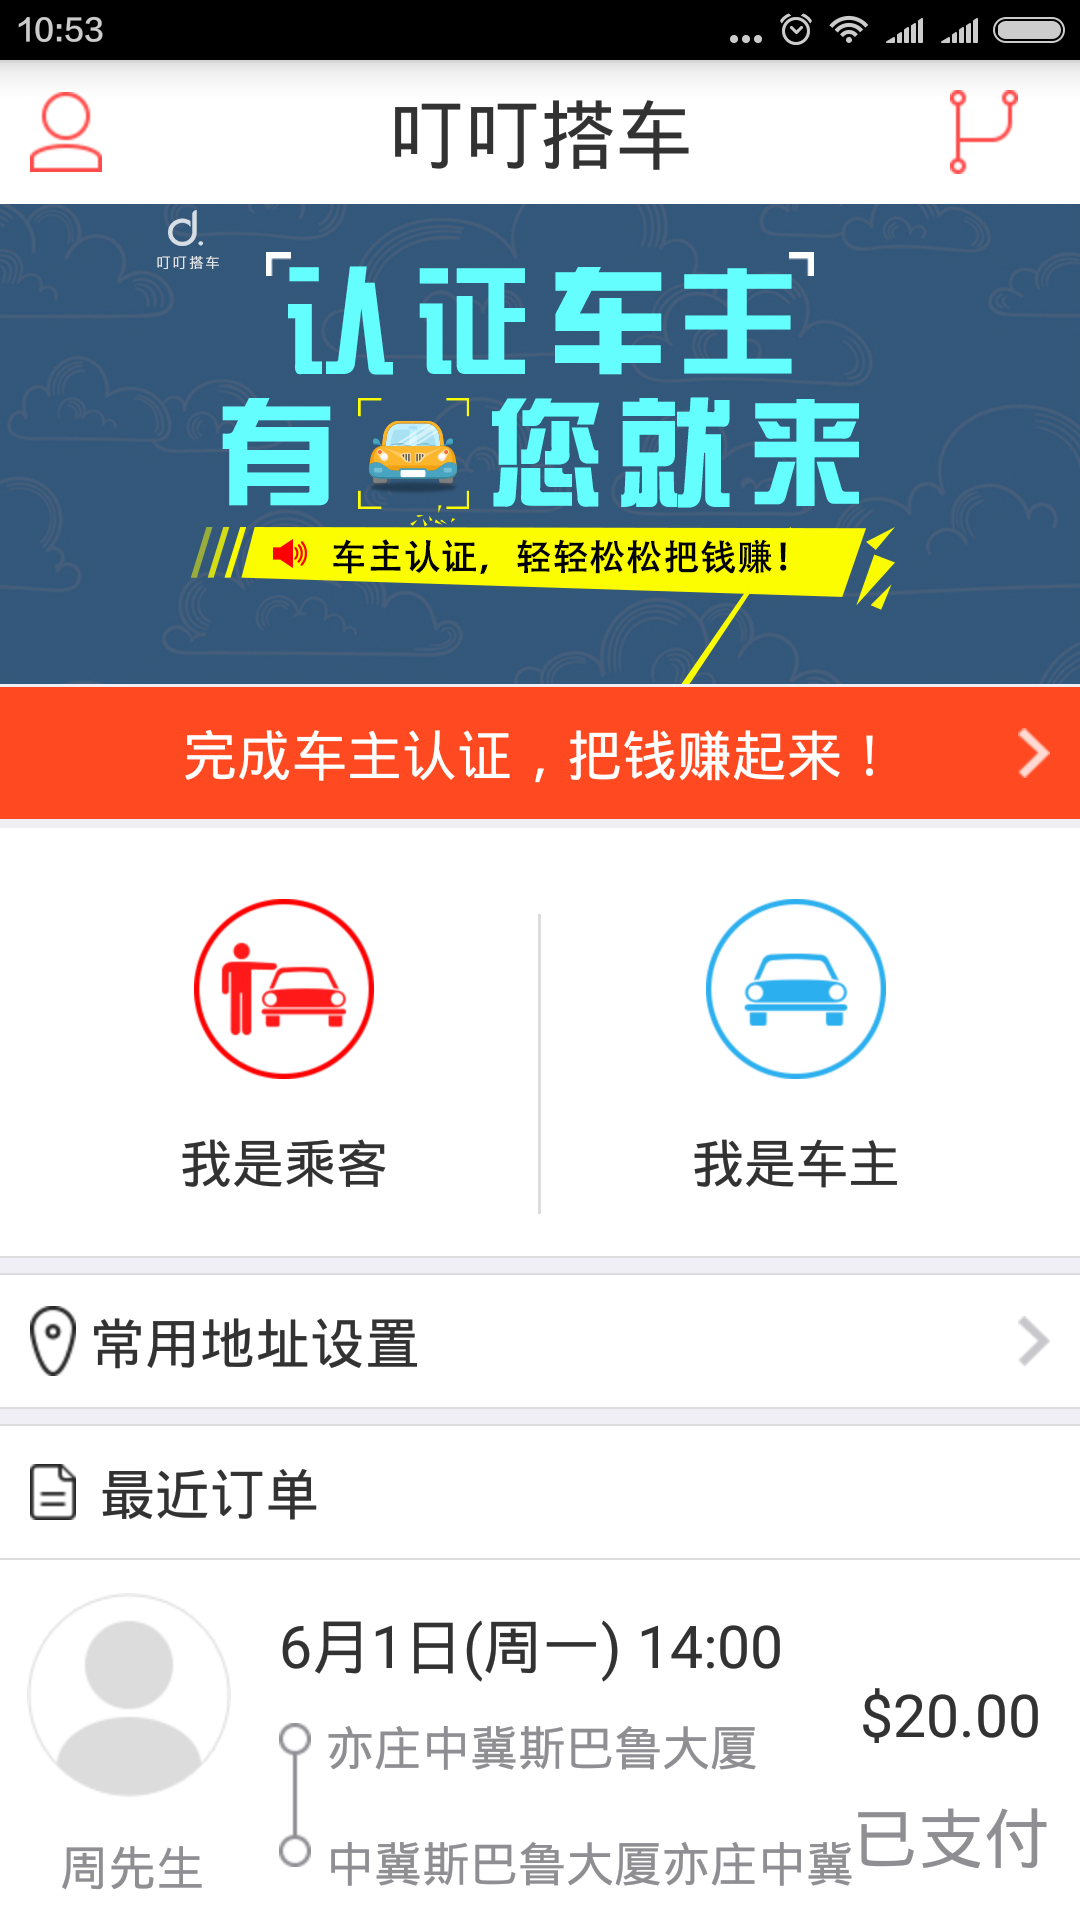imgview: (20, 1582, 245, 1797)
textview: (1, 1543, 1075, 1920)
